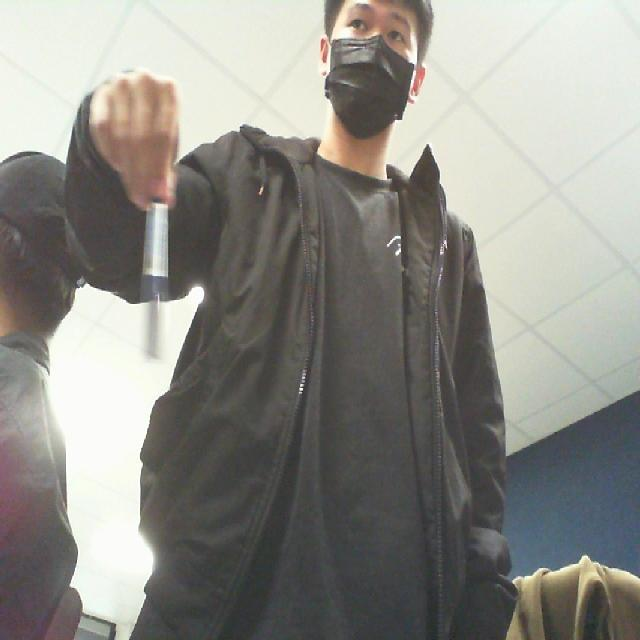Pen: (135, 181, 179, 387)
